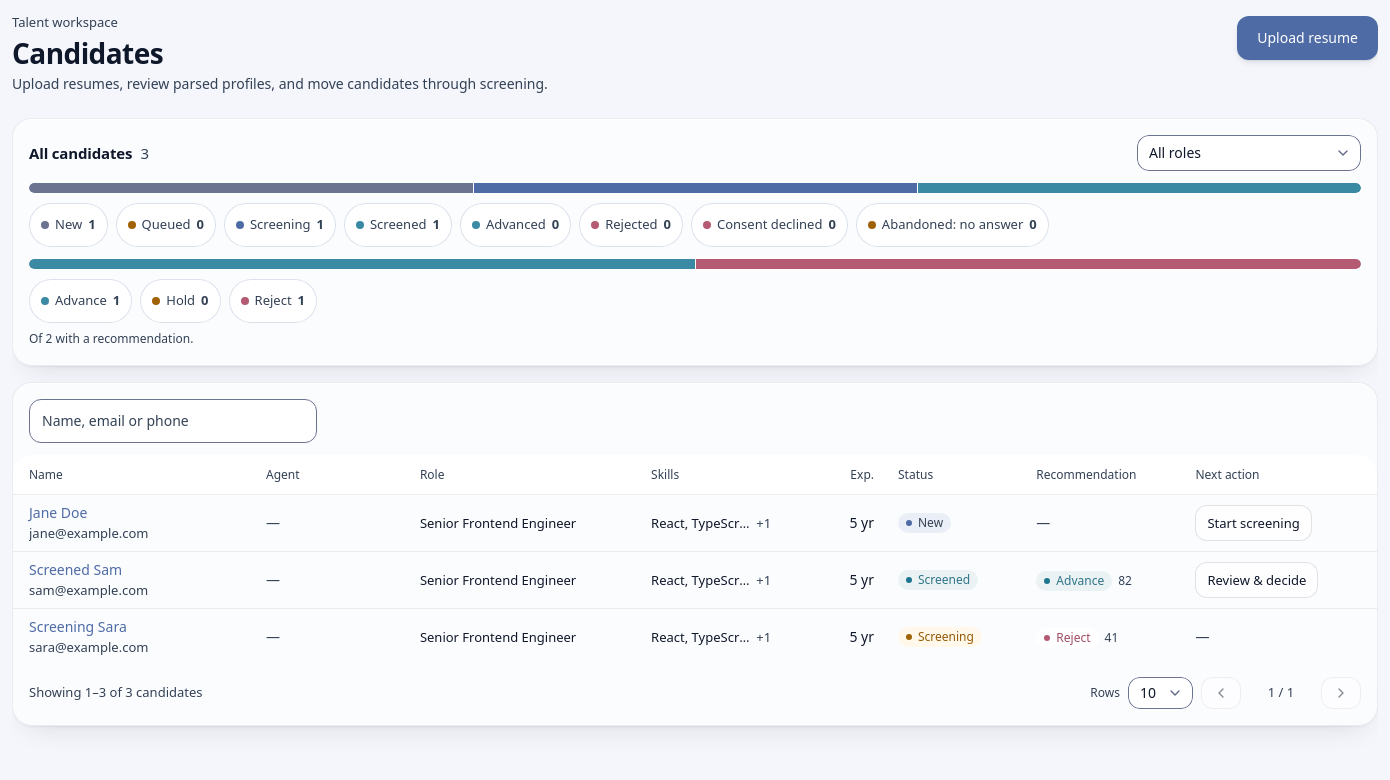
Test: CandidatesPage › toggles a recommendation filter into the URL
Expected: the link "Jane Doe" is shown, [29,503,88,522]
Click the button "Reject 1" at (273, 301), box [228,279,317,323]
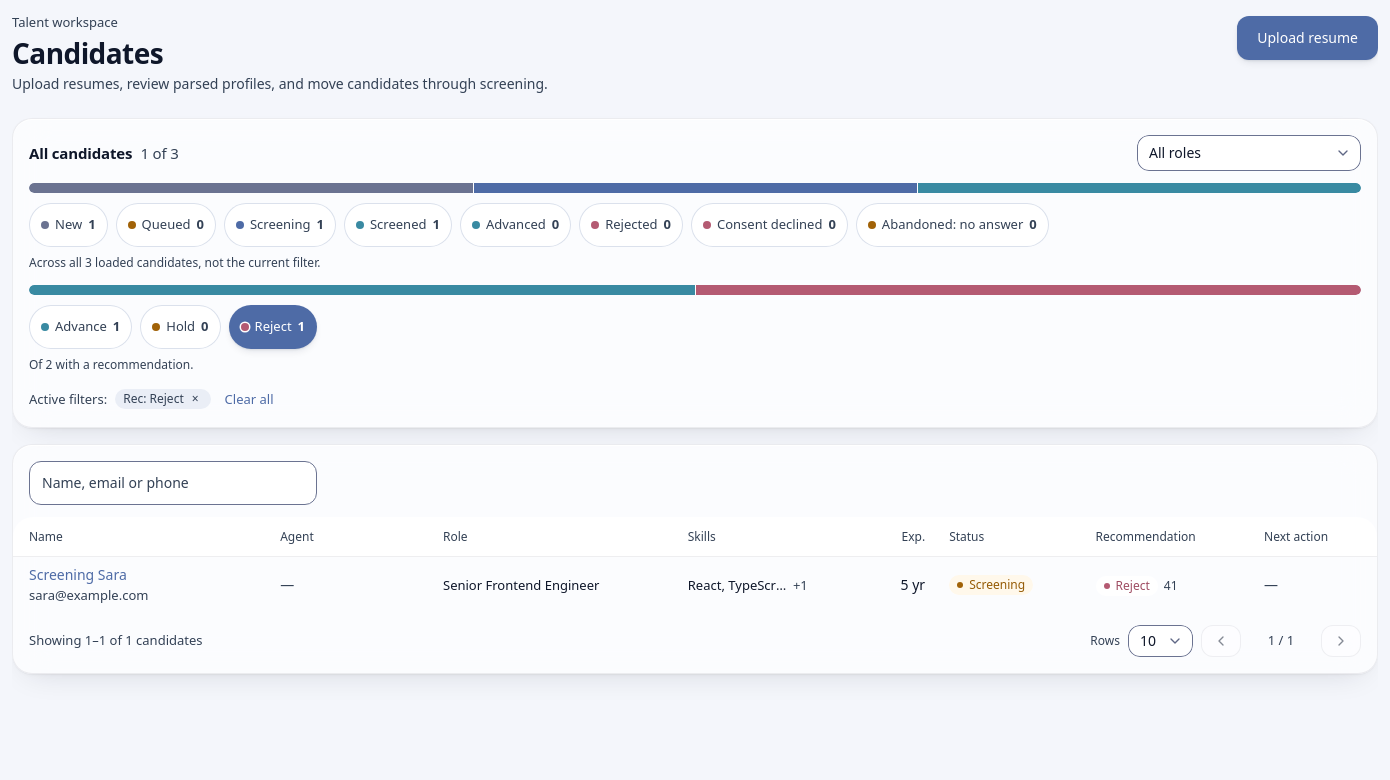
Expected: the link "Screening Sara" is shown, [29,565,127,584]
Now the link "Screened Sam" is gone
Now the link "Jane Doe" is gone
